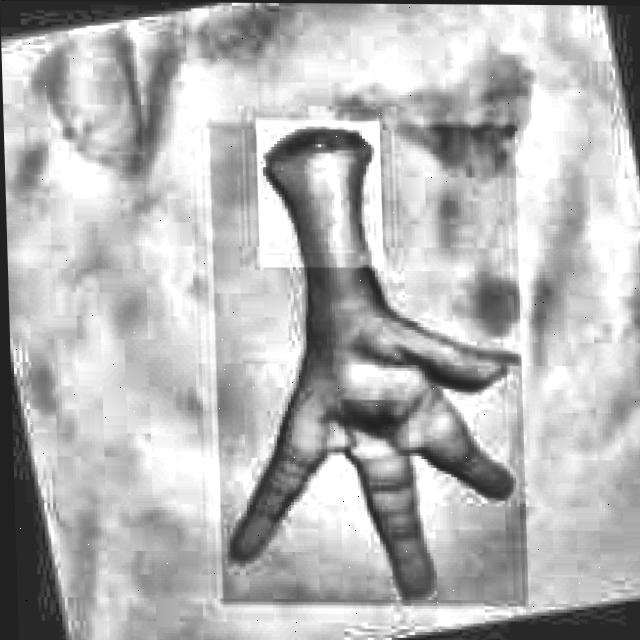Bumble foot: (343, 389, 404, 450)
